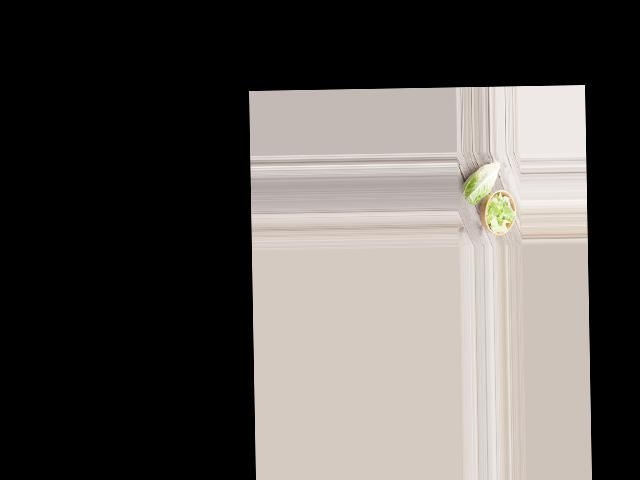lettuce: (460, 162, 501, 204)
